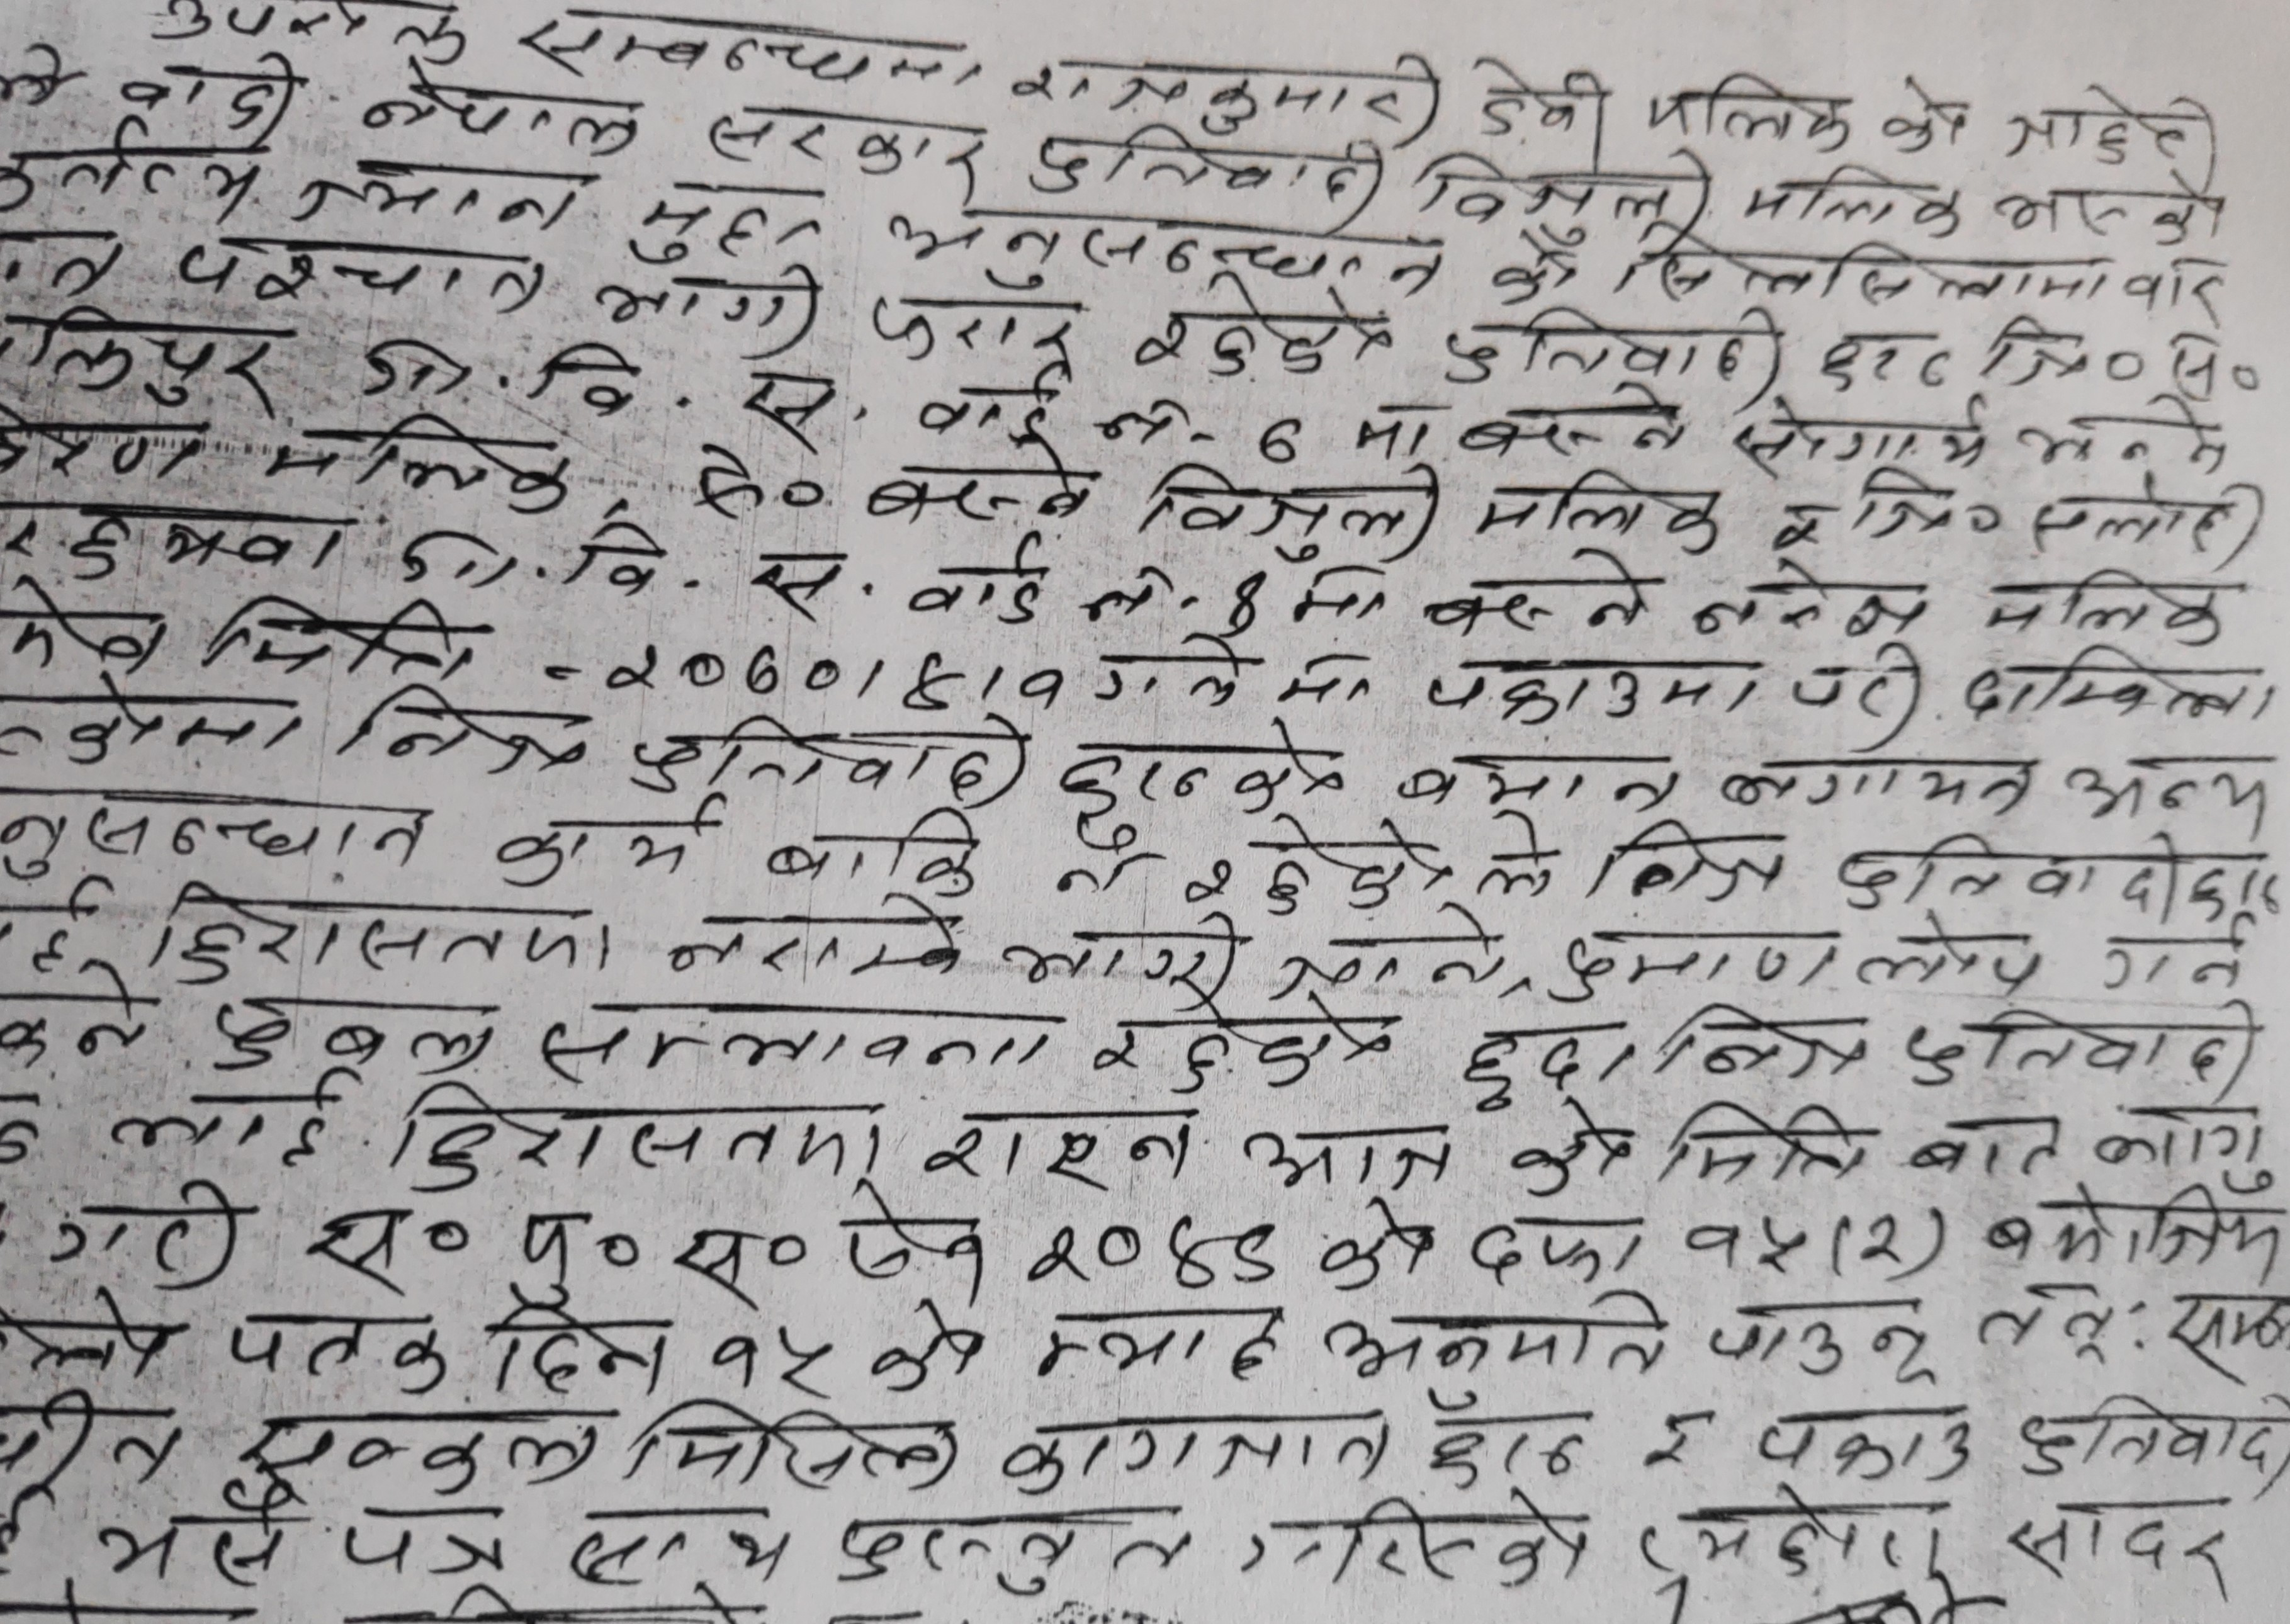text: (288, 1188, 812, 1309), (381, 1076, 895, 1192), (879, 199, 1446, 294), (153, 870, 619, 984), (529, 998, 1063, 1088), (1833, 819, 2279, 926), (515, 2, 984, 102), (622, 710, 1032, 810), (1011, 47, 1446, 135), (601, 633, 1072, 714), (1000, 1403, 1401, 1497), (388, 524, 847, 606), (225, 1401, 608, 1499), (1239, 1489, 1596, 1592), (1896, 997, 2264, 1093), (624, 1396, 965, 1499), (1438, 299, 1789, 399), (257, 413, 576, 522), (1025, 120, 1385, 216), (1318, 1287, 1677, 1381), (1084, 984, 1401, 1091), (1139, 453, 1446, 562), (81, 784, 439, 875), (1634, 1480, 1949, 1584), (828, 1510, 1199, 1598), (172, 225, 547, 311), (1049, 714, 1350, 819), (21, 487, 348, 580), (362, 56, 649, 160), (33, 299, 288, 415), (1427, 647, 1761, 735), (1128, 279, 1397, 388), (1984, 1181, 2290, 1276), (666, 895, 965, 991), (1961, 642, 2274, 731), (1417, 149, 1717, 241), (204, 587, 480, 685), (1023, 1285, 1285, 1387), (65, 668, 302, 780), (107, 1069, 364, 1172), (1968, 315, 2262, 404), (1469, 462, 1729, 562), (919, 1102, 1204, 1193), (2009, 1387, 2290, 1478), (344, 680, 596, 782), (351, 329, 647, 415), (98, 1475, 299, 1598), (490, 793, 740, 891), (1002, 909, 1251, 1007), (202, 991, 497, 1074), (2002, 1492, 2241, 1592), (858, 439, 1095, 540), (1714, 750, 2042, 823), (1684, 559, 1930, 654), (1705, 1294, 1933, 1396), (292, 156, 591, 234), (1257, 805, 1450, 924), (1823, 234, 2114, 313), (698, 100, 995, 178), (2025, 471, 2267, 564), (220, 1301, 450, 1397), (1021, 1209, 1285, 1294), (559, 1499, 796, 1592), (49, 1179, 244, 1292), (1269, 914, 1527, 998), (1550, 921, 1842, 995), (1431, 548, 1652, 645), (763, 801, 984, 896), (1995, 165, 2234, 253), (2009, 79, 2223, 176), (1666, 1095, 1870, 1195), (1750, 1404, 1982, 1492), (1647, 993, 1877, 1081), (1982, 566, 2230, 647), (624, 170, 828, 267), (599, 264, 823, 352), (2086, 1091, 2283, 1190), (1613, 225, 1817, 320), (2011, 388, 2234, 475), (492, 1297, 671, 1404), (1388, 750, 1684, 816), (1455, 381, 1687, 464), (1640, 69, 1863, 153), (1740, 160, 1968, 241), (1724, 406, 1988, 475), (856, 290, 1086, 367), (334, 1492, 522, 1585), (837, 1185, 989, 1297), (1596, 821, 1800, 905), (1420, 1385, 1589, 1487), (1234, 1123, 1455, 1200), (1459, 1018, 1641, 1107), (1856, 912, 2044, 995), (916, 350, 1070, 450), (2062, 750, 2265, 826), (1968, 1272, 2123, 1369), (116, 49, 306, 127), (1088, 631, 1255, 719), (1467, 49, 1617, 146), (1466, 1211, 1650, 1288), (703, 1306, 842, 1408), (2095, 916, 2264, 998), (1786, 643, 1926, 742), (898, 538, 1049, 629), (1835, 464, 1998, 548), (859, 1297, 988, 1394), (1316, 1197, 1439, 1297), (689, 439, 837, 520), (1510, 1102, 1629, 1200), (1903, 1106, 2067, 1176), (1814, 323, 1951, 402), (1673, 1209, 1812, 1287), (1286, 550, 1401, 636), (1469, 805, 1562, 910), (1053, 814, 1153, 907), (729, 366, 847, 439), (1877, 72, 1970, 156), (1348, 390, 1443, 469), (1485, 228, 1585, 302), (2123, 253, 2232, 320), (1278, 652, 1380, 717), (1098, 387, 1183, 455), (1761, 487, 1837, 559), (1640, 1413, 1719, 1476), (1248, 404, 1318, 471), (1176, 849, 1244, 914), (1851, 1214, 1912, 1269)
